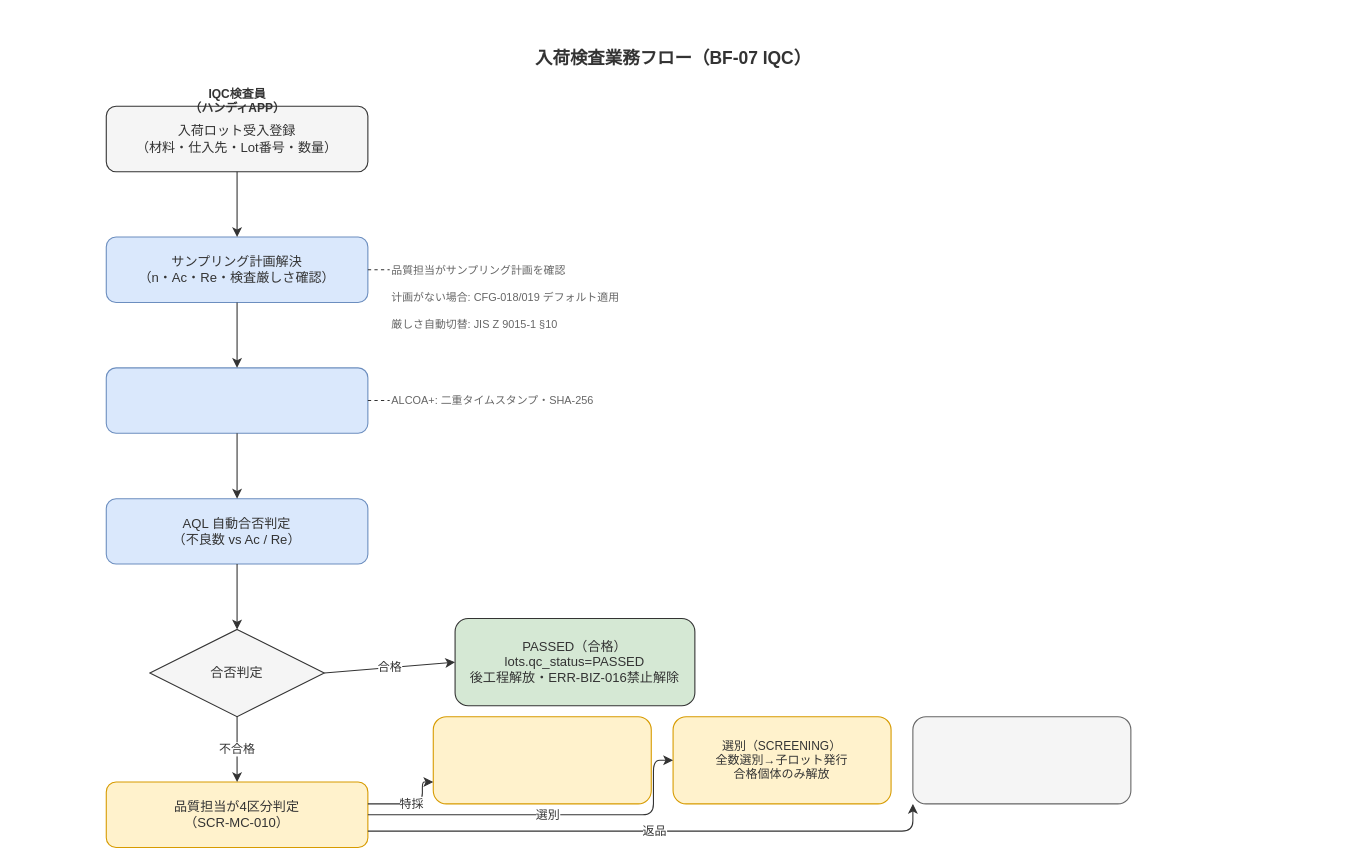
Some shapes in this 1345 by 867 pixel diagram are drawn without their labels. Here are the shapes that lost their labels. From the top down, the centre of each, then its label:
At (236,400): "サンプル採取・測定値入力 （数値・写真・QRスキャン）".
At (541,760): "特採（CONCESSION） 電子サイン+有効範囲+期限 警告バナー強制表示".
At (1021,760): "返品（REJECT） 返品書・仕入先通知 qc_status=REJECTED".
